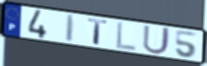4: (27, 8, 48, 40)
5: (174, 29, 198, 60)
I: (65, 14, 77, 44)
L: (115, 20, 138, 52)
T: (86, 17, 110, 46)
U: (142, 24, 172, 55)
